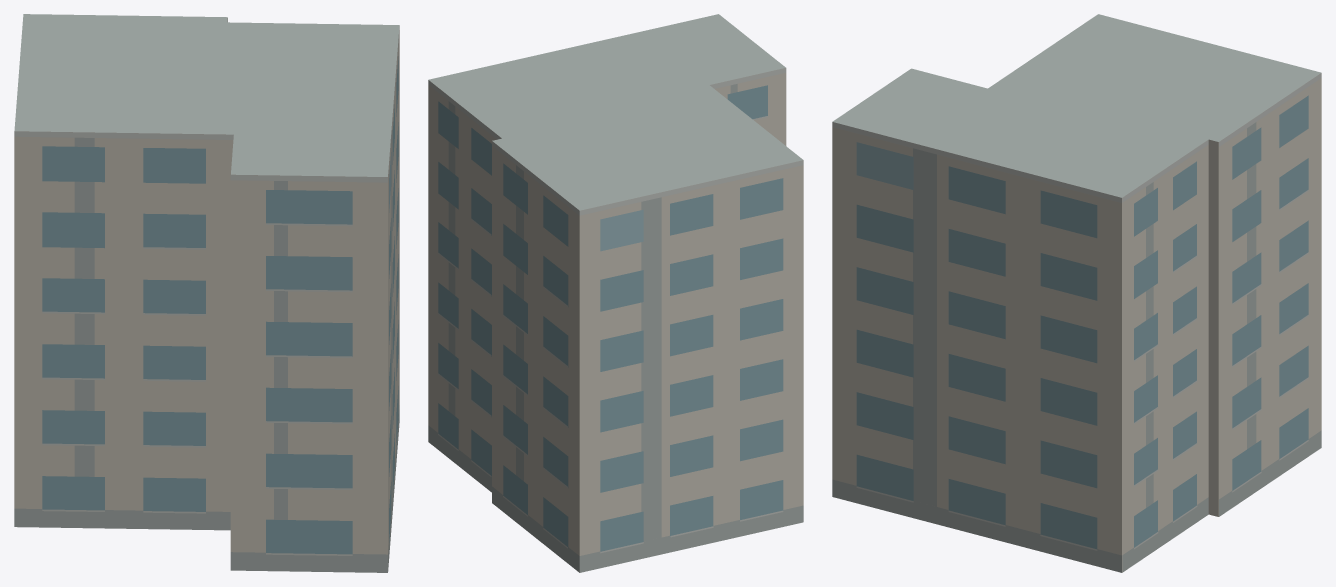
Rendered from survey-upis-32872861.glb.
3 views of the same model, side by side, from view 1: azimuth 30°, elevation 25°; view 2: azimuth 150°, elevation 25°; view 3: azimuth 270°, elevation 25° (orthographic). The views are drawn at different scales.
Visible parts, largest first — view 1: survey-upis-32872861.tmp; view 2: survey-upis-32872861.tmp; view 3: survey-upis-32872861.tmp.
Part boxes in pixels (box(x1,y1,x2,y2)): survey-upis-32872861.tmp: box(14, 14, 399, 572); survey-upis-32872861.tmp: box(428, 14, 803, 572); survey-upis-32872861.tmp: box(832, 14, 1321, 572).
Size of the model in its own units: 18.41 by 17.5 by 20.71.
